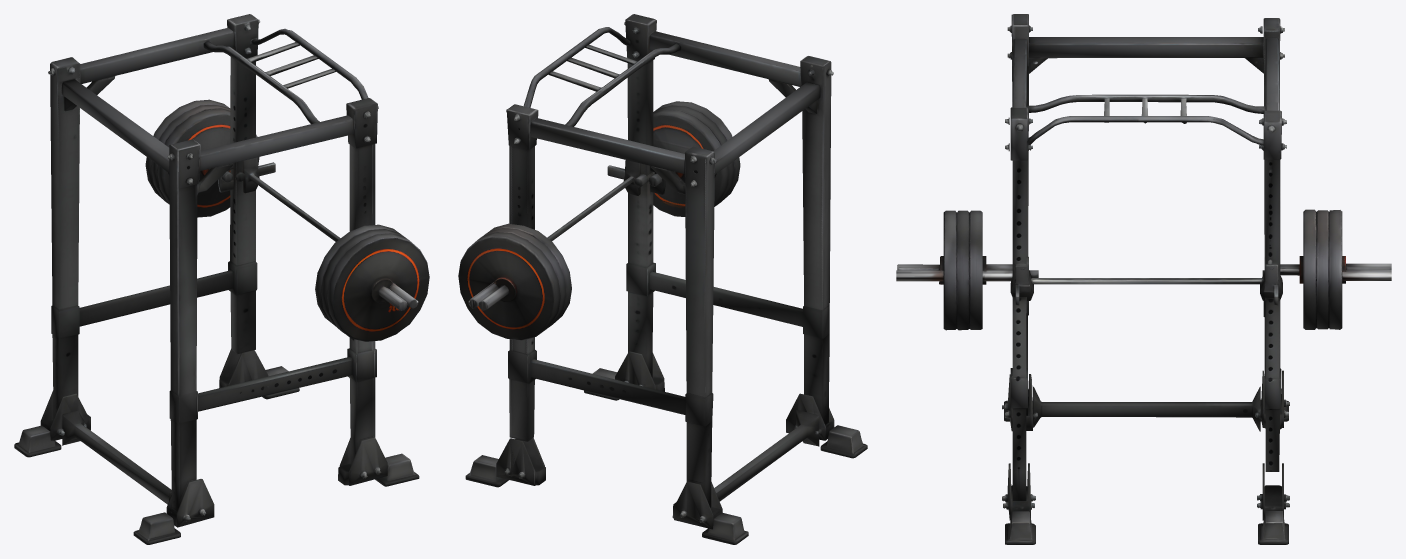
Rendered from squat_rack.glb.
3 views of the same model, side by side, from view 1: azimuth 30°, elevation 25°; view 2: azimuth 150°, elevation 25°; view 3: azimuth 270°, elevation 25° (orthographic). The views are drawn at different scales.
Parts seen in each view (by area): view 1: tripo_node_4bc8a356-fa9d-49f9-bab4-9443e6b29dcb; view 2: tripo_node_4bc8a356-fa9d-49f9-bab4-9443e6b29dcb; view 3: tripo_node_4bc8a356-fa9d-49f9-bab4-9443e6b29dcb.
Part boxes in pixels (x1=…): tripo_node_4bc8a356-fa9d-49f9-bab4-9443e6b29dcb: x1=14, y1=14, x2=429, y2=544; tripo_node_4bc8a356-fa9d-49f9-bab4-9443e6b29dcb: x1=458, y1=14, x2=867, y2=544; tripo_node_4bc8a356-fa9d-49f9-bab4-9443e6b29dcb: x1=896, y1=14, x2=1391, y2=544.
Size of the model in its own units: 1.33 by 1.8 by 1.97.
1 material, 1 textured.
